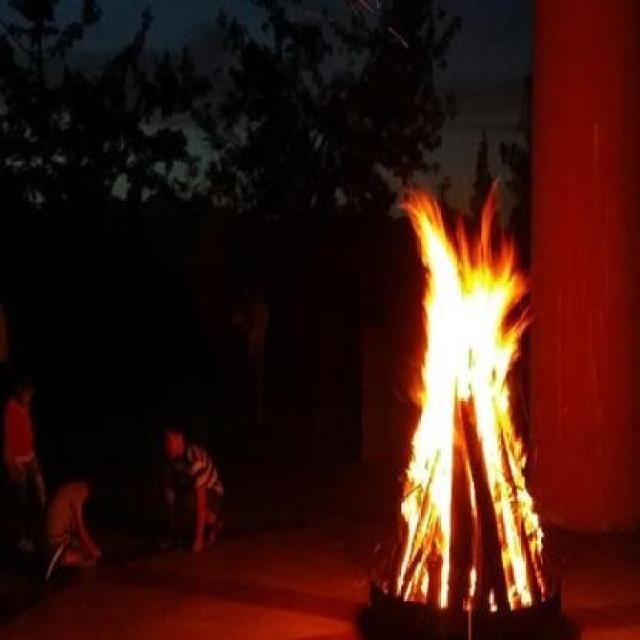Fire: (389, 160, 548, 640)
